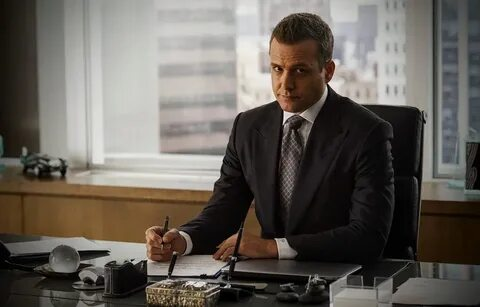awake: (179, 12, 395, 263)
